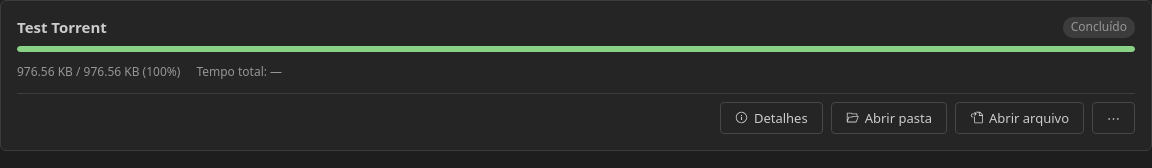
Scenario: DownloadItem — menu de contexto › menu de contexto inclui "Abrir arquivo" quando selectedFileCount=1
Right-click the list item at (576, 76), box [0,0,1151,151]
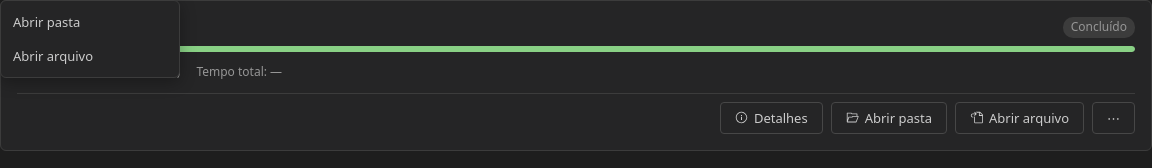
expect the menu item "Abrir arquivo" is shown: met, box [13,47,93,65]
